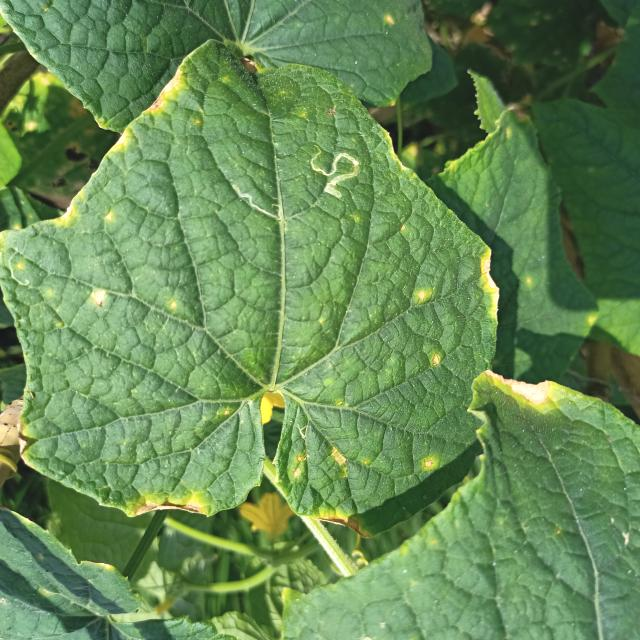disease_cucumber: (284, 445, 367, 538), (49, 195, 120, 236), (410, 282, 430, 304), (89, 286, 108, 307), (428, 350, 444, 368), (423, 456, 436, 470)
